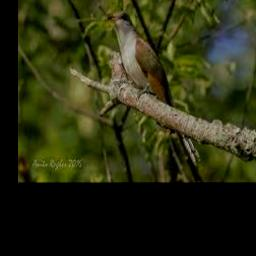Cuckoo: (107, 11, 200, 167)
